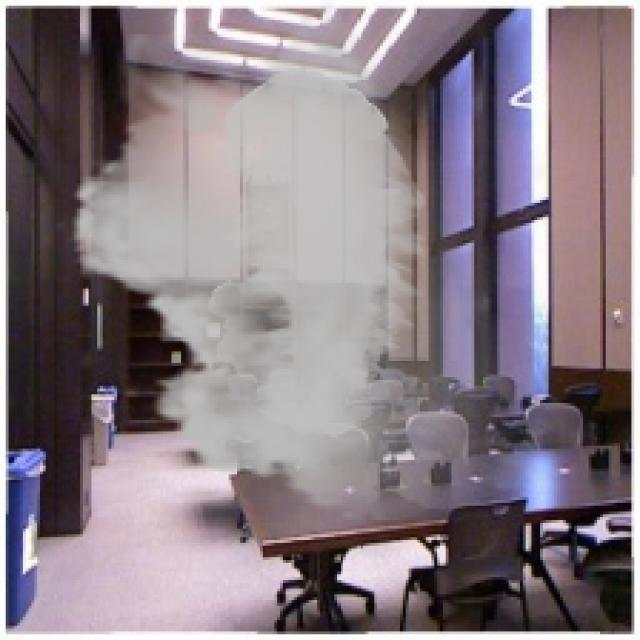Smoke: (52, 0, 574, 520)
